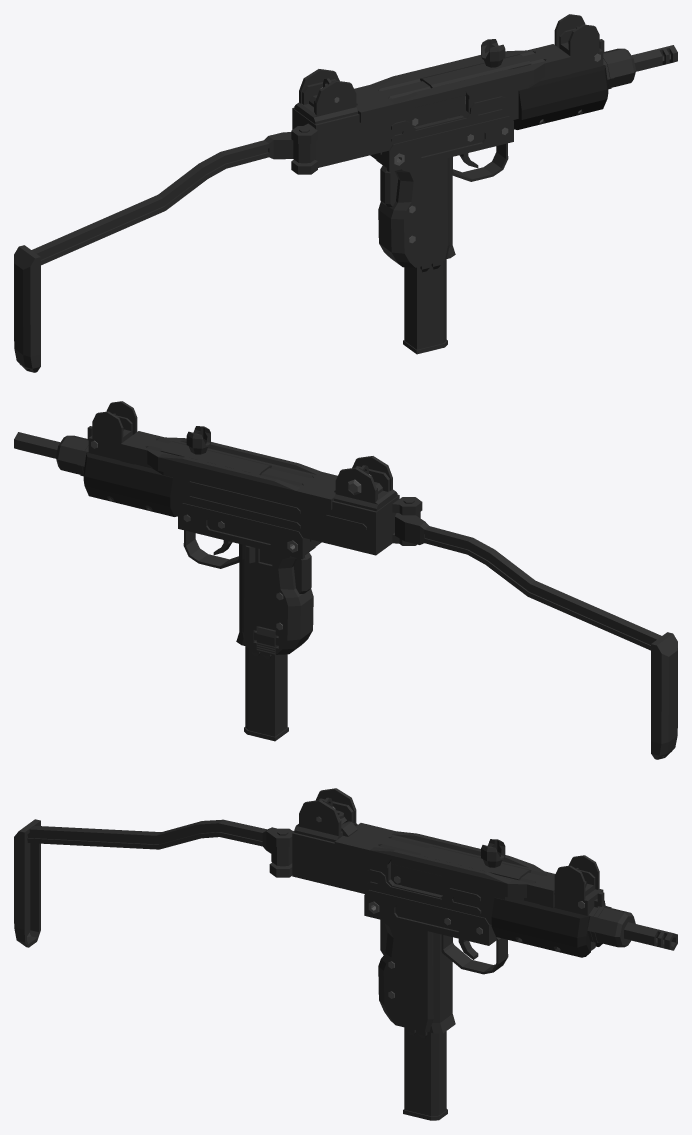
File: UZI.fbx
3 views of the same model, one above another, from view 1: azimuth 30°, elevation 25°; view 2: azimuth 150°, elevation 25°; view 3: azimuth 330°, elevation 25° (orthographic).
Parts seen in each view (by area): view 1: guns; view 2: guns; view 3: guns.
Part boxes in pixels (x1,y1,x2,y2): guns: (14, 14, 677, 372); guns: (14, 401, 677, 759); guns: (14, 788, 677, 1120).
Size of the model in its own units: 108 by 46.46 by 9.3.
Materials: 1 (1 with a texture image).
